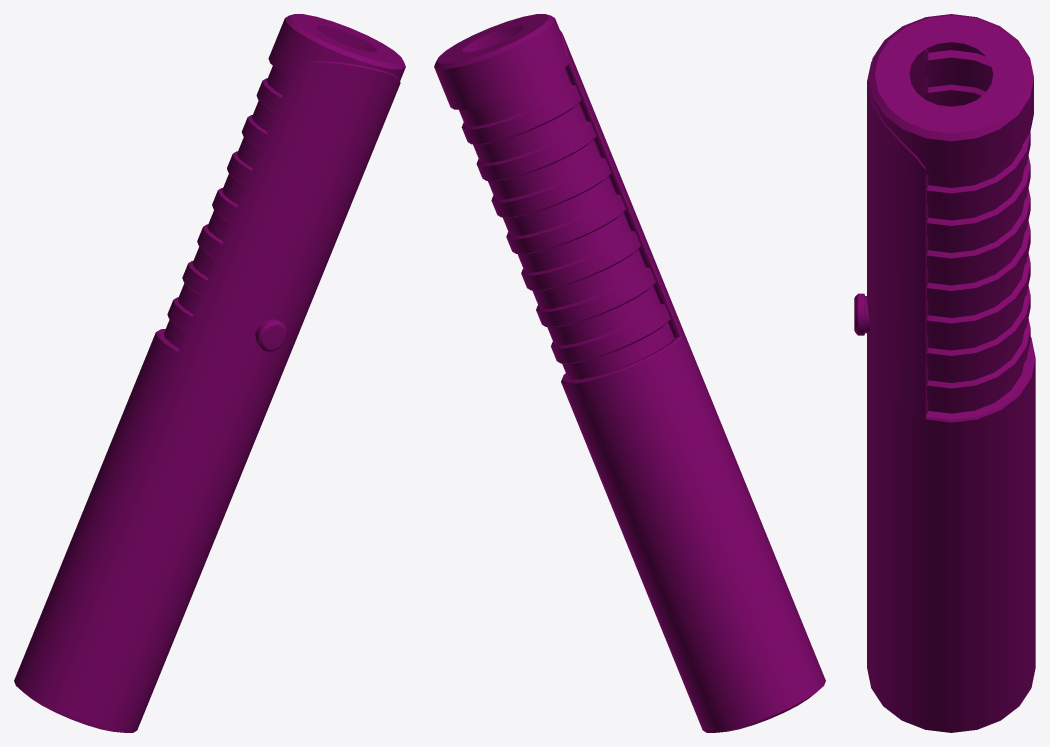
File: Grip_Qui_gon.obj
3 renders of one model, left to right at view 1: azimuth 30°, elevation 25°; view 2: azimuth 150°, elevation 25°; view 3: azimuth 270°, elevation 25°, orthographic. The views are drawn at different scales.
Visible parts, largest first — view 1: Grip_Qui_gon Qui_gon_GRP; view 2: Grip_Qui_gon Qui_gon_GRP; view 3: Grip_Qui_gon Qui_gon_GRP.
Boxes of the visible parts, box(x1,y1,x2,y2) form: Grip_Qui_gon Qui_gon_GRP: box(14, 14, 405, 732); Grip_Qui_gon Qui_gon_GRP: box(434, 14, 825, 732); Grip_Qui_gon Qui_gon_GRP: box(854, 14, 1035, 732).
Size of the model in its own units: 9.29 by 15.46 by 3.08.
